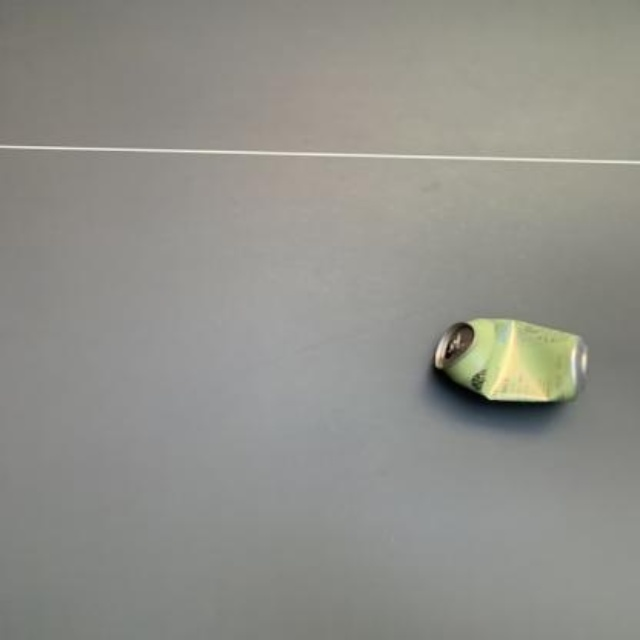trash: (434, 318, 588, 400)
